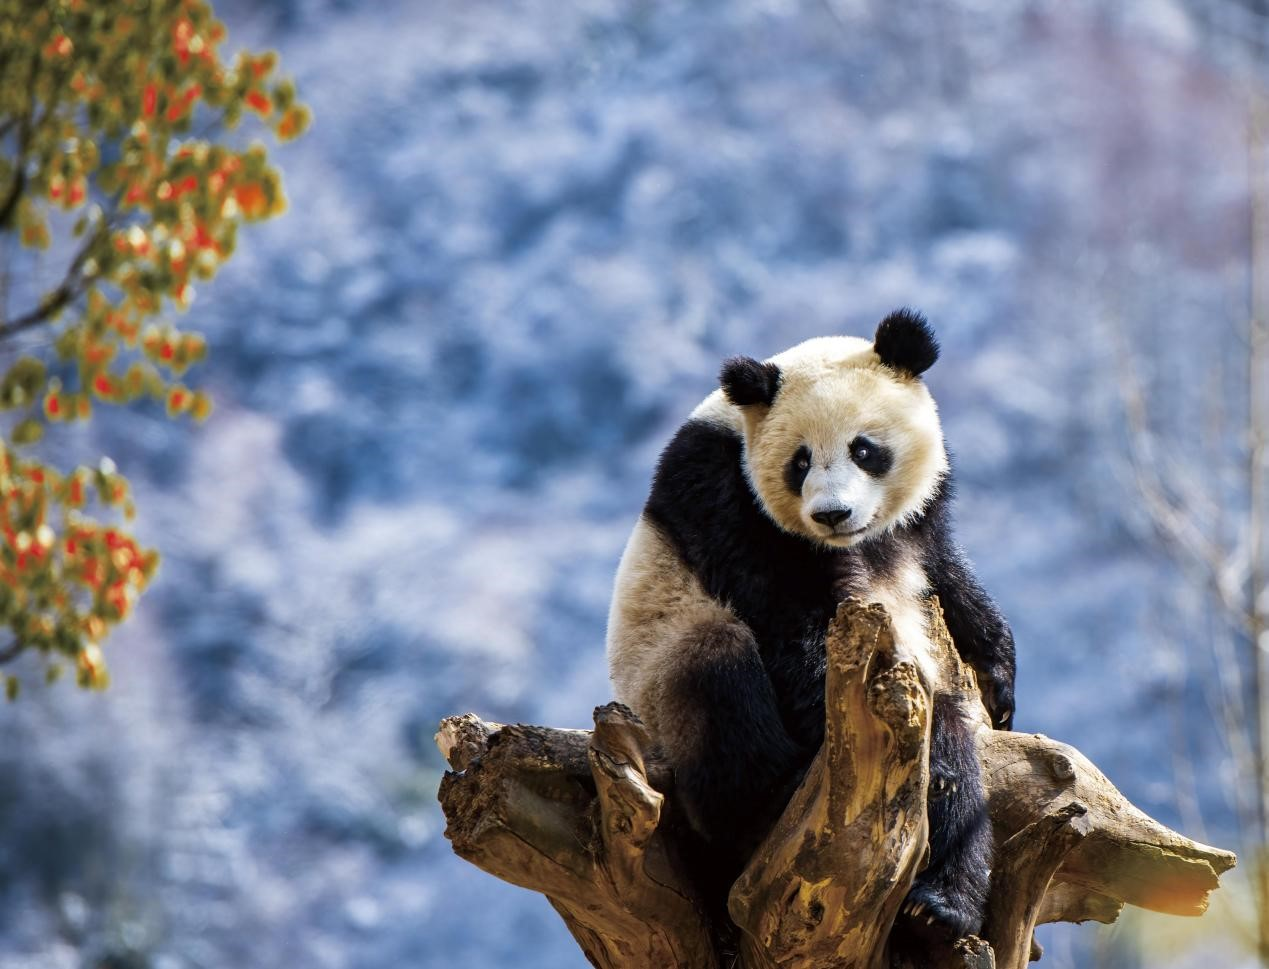Giant panda: (719, 303, 958, 554)
